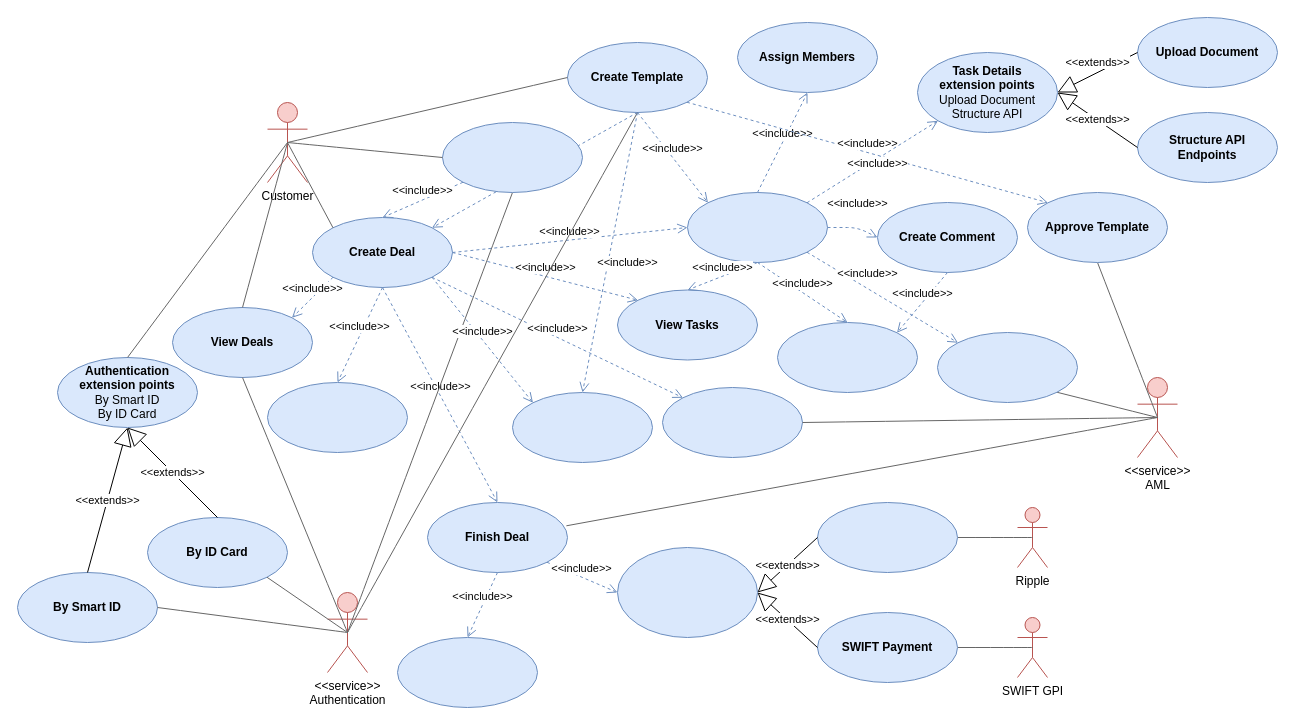
Some shapes in this 1295 by 726 pixel diagram are drawn without their labels. The centre of each missing label's shape, as x and y in pixels:
"Choose Deal Participants" goes at (x=337, y=417).
"Choose Template" goes at (x=582, y=427).
"Complete Task" goes at (x=1007, y=367).
"Create Task" goes at (x=757, y=227).
"Make Payment extension points Ripple Payment SWIFT Payment" goes at (x=687, y=592).
"Modify Deal" goes at (x=512, y=157).
"Reject Deal" goes at (x=732, y=422).
"Ripple Payment" goes at (x=887, y=537).
"Validate Participants Signatures" goes at (x=467, y=672).
"View Comments" goes at (x=847, y=357).
